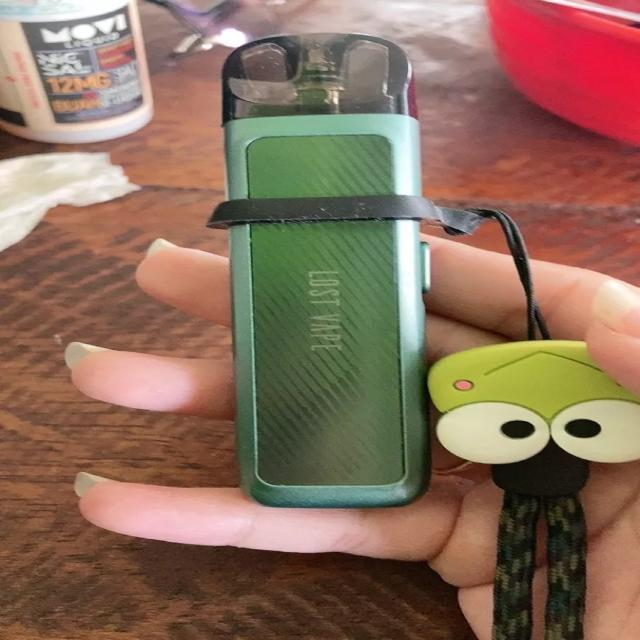Hazard: (219, 32, 422, 510)
